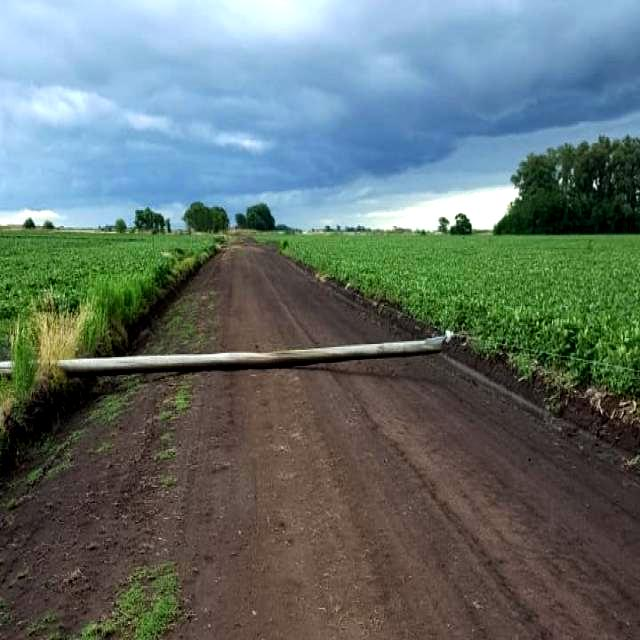Broken Pole: (2, 327, 455, 379)
